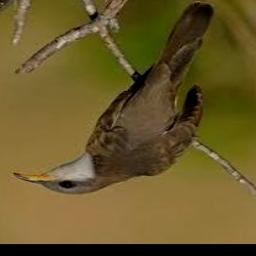Cuckoo: (14, 2, 218, 193)
